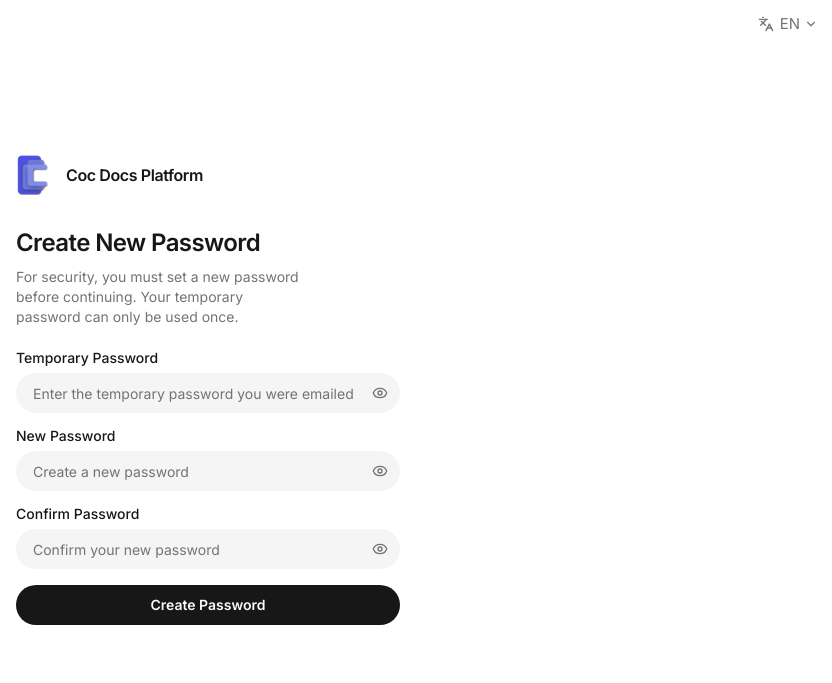
Scenario: CreatePasswordPage › reports the server's refusal plainly, e.g. reusing the temporary password
The width and height of the screenshot is (832, 683).
Check: the heading "Create New Password" is shown, box [16,228,260,257]
Type "TempPassword123!" into the password field labelled "Temporary Password" at coordinates (208, 393), box [16,373,400,413]
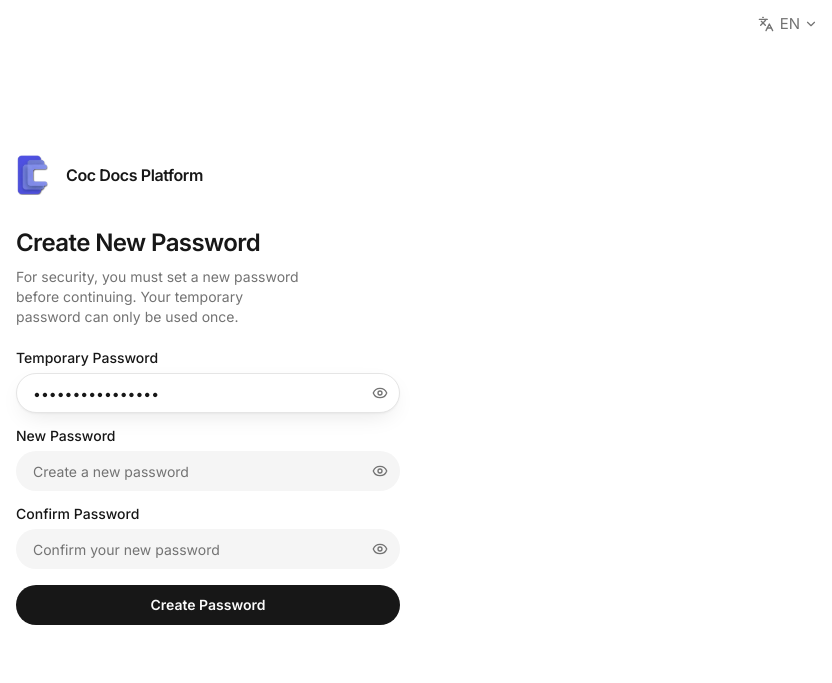
Type "TempPassword123!" into the password field labelled "New Password" at coordinates (208, 471), box [16,451,400,491]
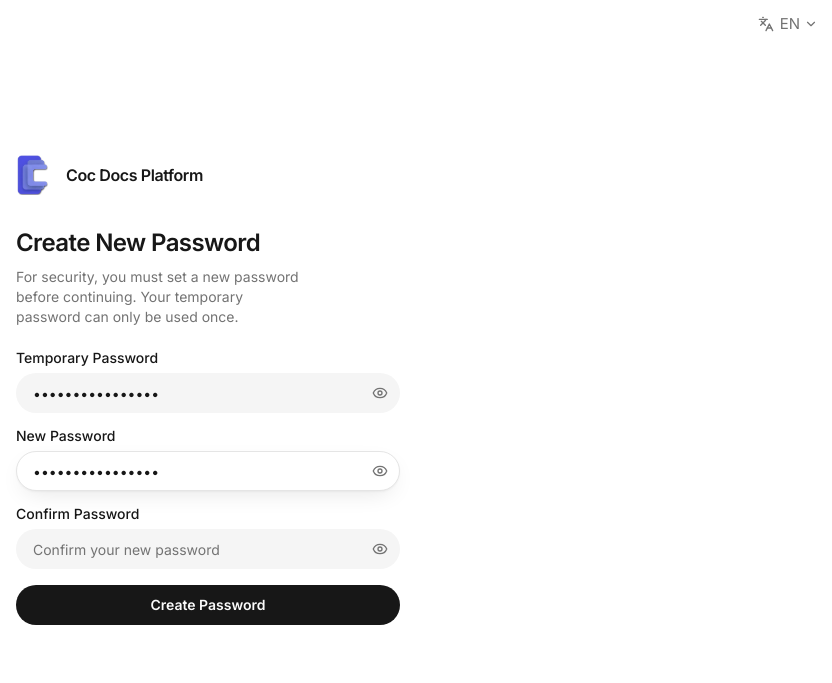
Type "TempPassword123!" into the password field labelled "Confirm Password" at coordinates (208, 549), box [16,529,400,569]
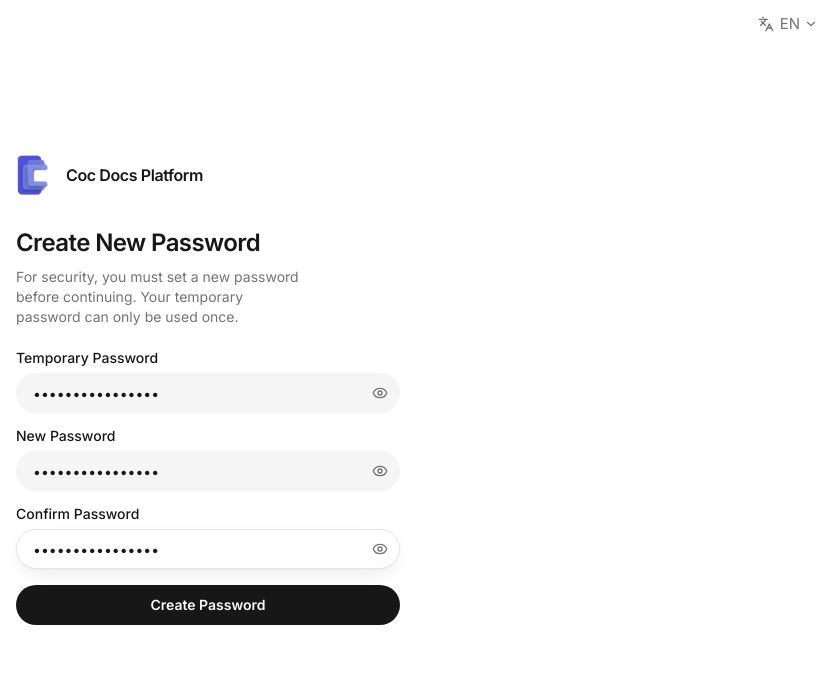
Click the button "Create Password" at coordinates (208, 605), box [16,585,400,625]
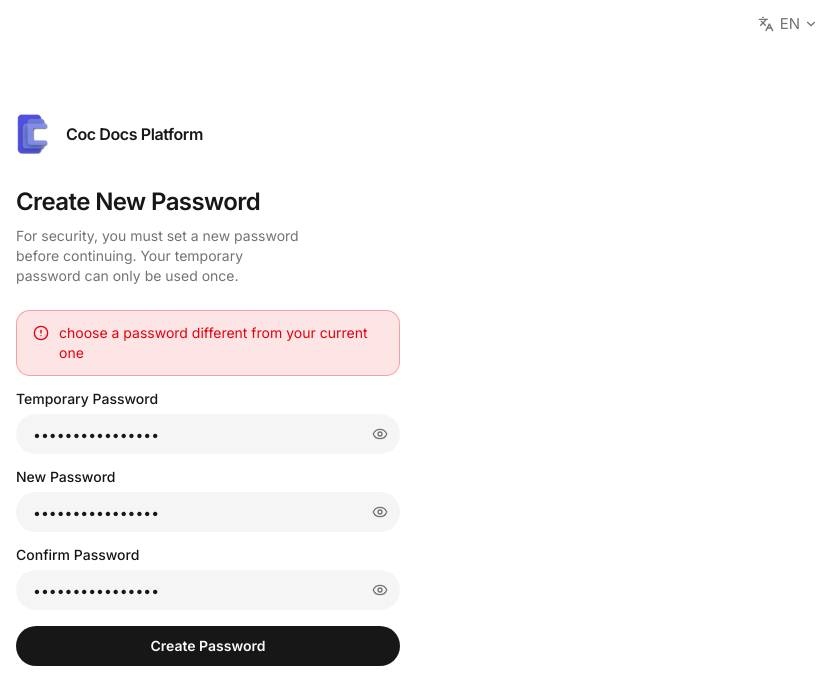
Check: the text "choose a password different from your current one" is shown, box [59,323,383,363]
